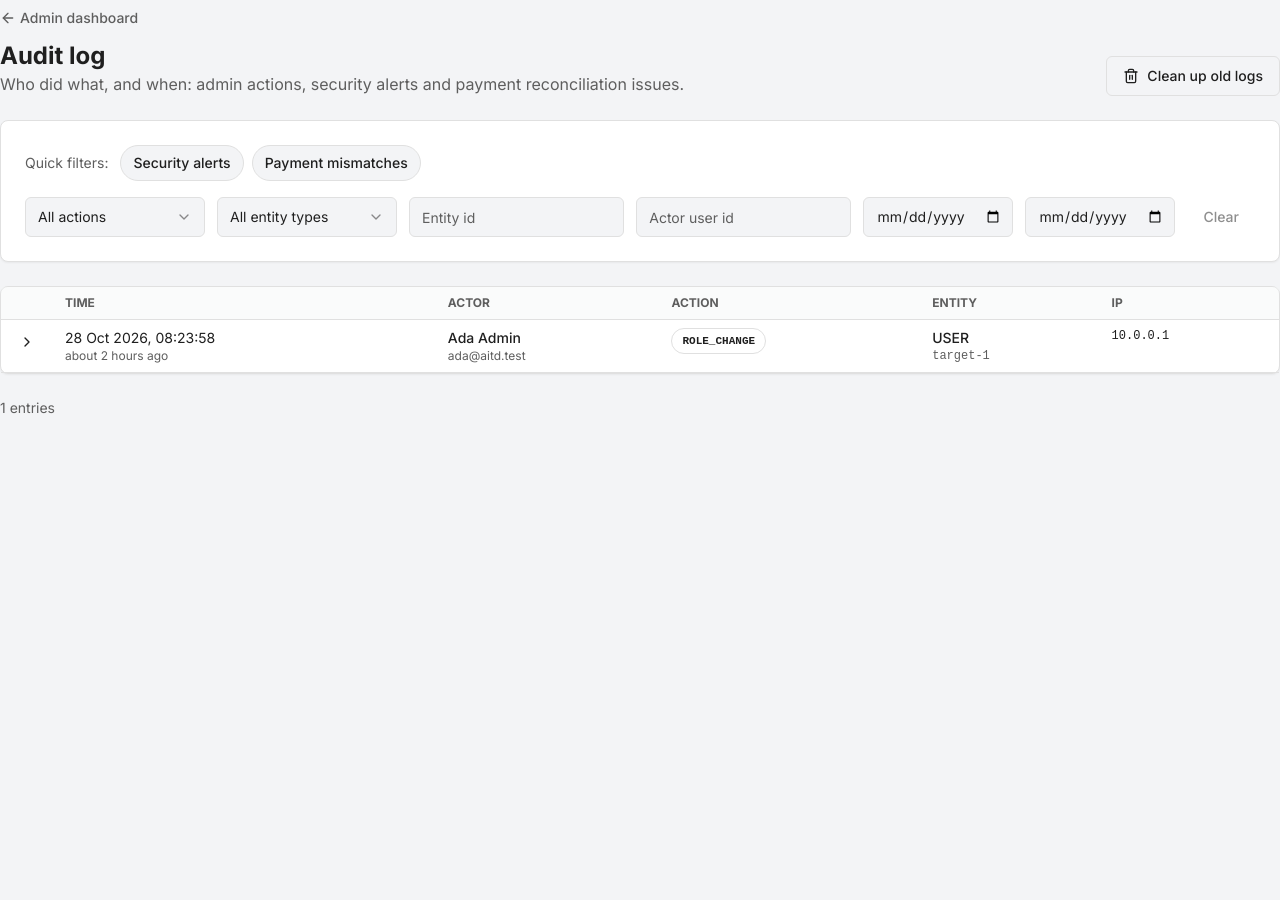
Test: Admin audit log page › lets a super admin clean up old logs after confirming the retention
Expected: the text "Ada Admin" is shown, [448,329,521,346]
Step 1. Click the button "Clean up old logs" → click(1193, 76), box [1106,56,1279,96]
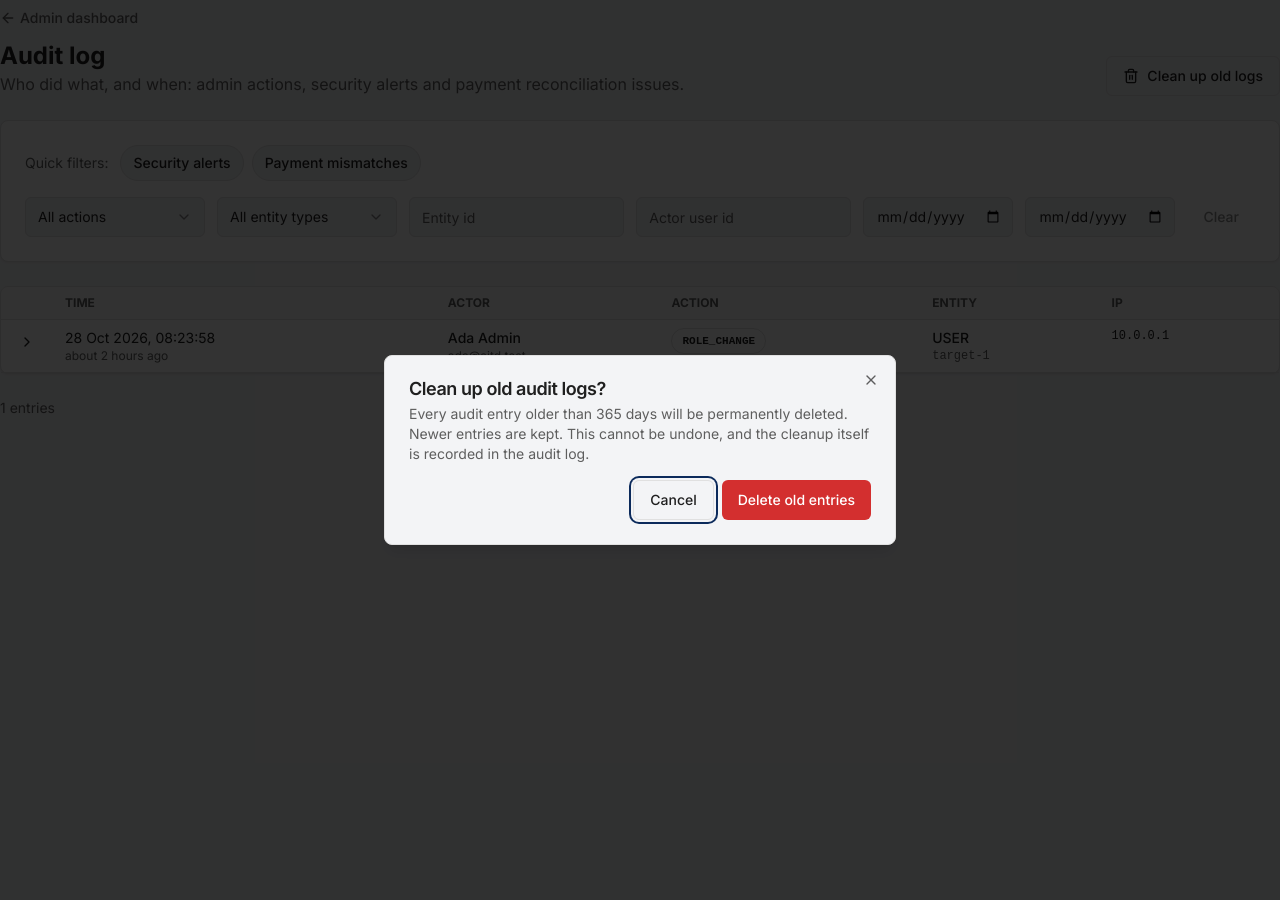
Now the text "365 days" is shown, box [409,404,871,464]
Step 2. Click the button "Delete old entries" → click(796, 500), box [722,480,871,520]
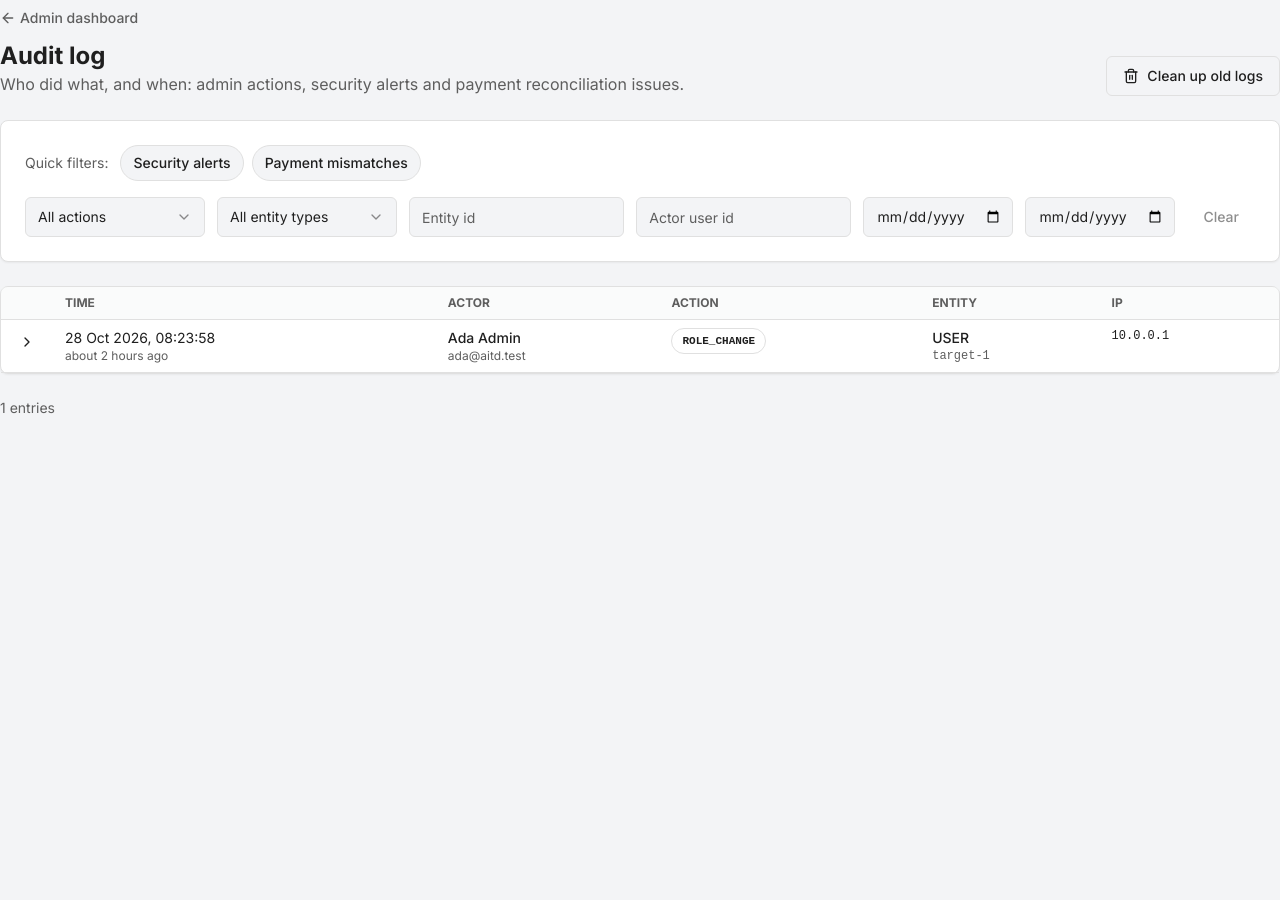
Now the dialog is gone
